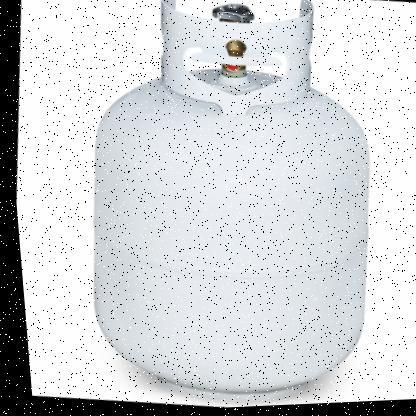gas-tank: (42, 0, 415, 414)
